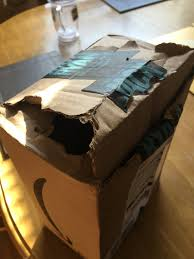damaged package: (4, 97, 99, 156), (116, 99, 186, 176), (151, 45, 191, 65)
